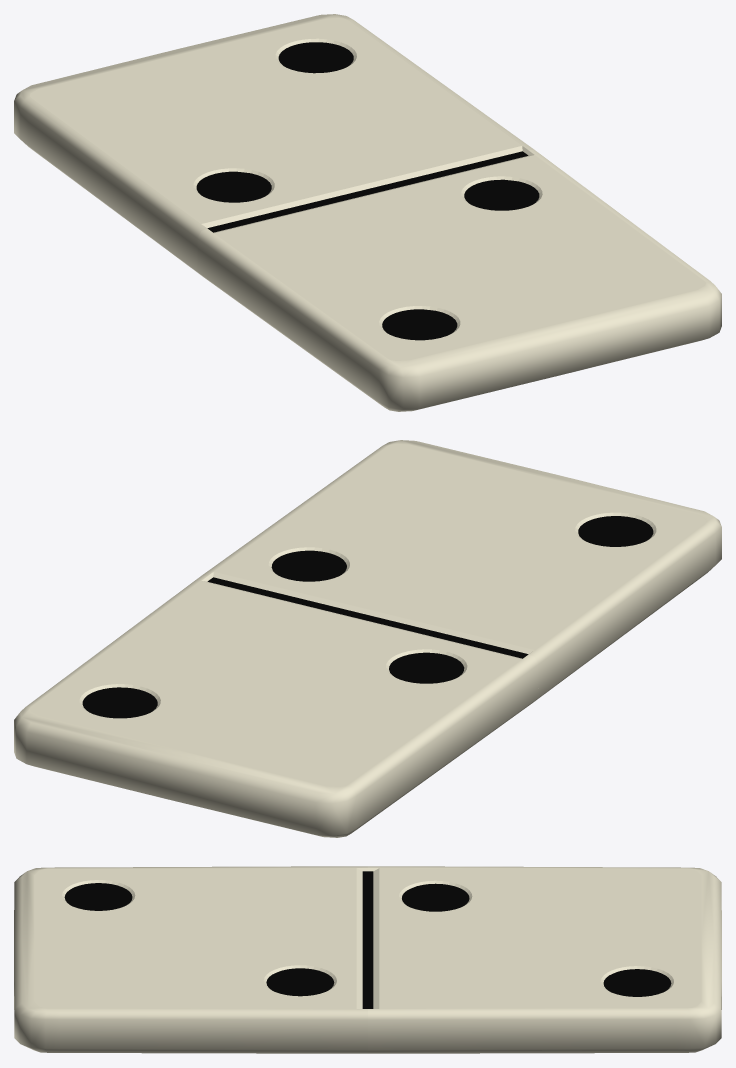
The model's file is Domino_2_2.glb.
3 renders of one model, top to bottom at view 1: azimuth 30°, elevation 25°; view 2: azimuth 150°, elevation 25°; view 3: azimuth 270°, elevation 25°, orthographic. The views are drawn at different scales.
Visible parts, largest first — view 1: Domino_2_2_A.001, Domino_2_2_B.001; view 2: Domino_2_2_B.001, Domino_2_2_A.001; view 3: Domino_2_2_B.001, Domino_2_2_A.001.
Part boxes in pixels (x1=…): Domino_2_2_A.001: x1=197, y1=149, x2=721, y2=411; Domino_2_2_B.001: x1=14, y1=14, x2=533, y2=276; Domino_2_2_B.001: x1=14, y1=575, x2=538, y2=837; Domino_2_2_A.001: x1=202, y1=440, x2=721, y2=702; Domino_2_2_B.001: x1=368, y1=866, x2=721, y2=1053; Domino_2_2_A.001: x1=14, y1=866, x2=367, y2=1053.
Bounding box in the file's own units: 0.7725 × 0.105 × 1.54.
